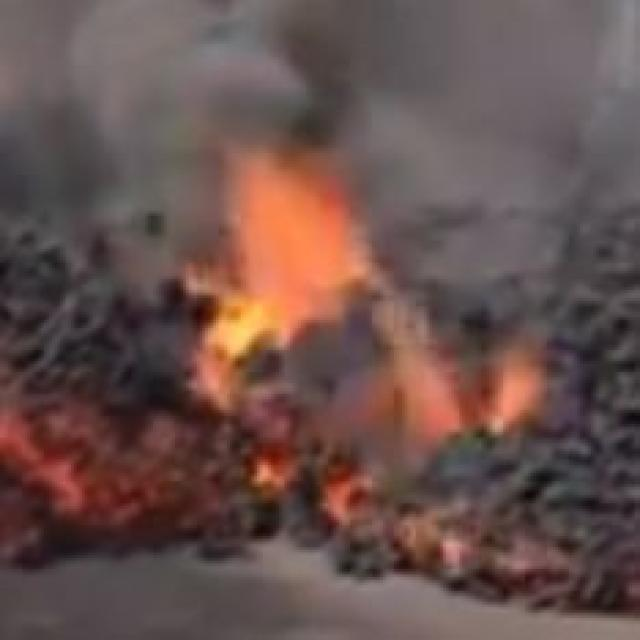Fire: (190, 160, 344, 380), (10, 412, 124, 512), (404, 348, 467, 450), (482, 350, 544, 440), (323, 464, 382, 526), (244, 450, 294, 492)
Smoke: (22, 12, 572, 214)
